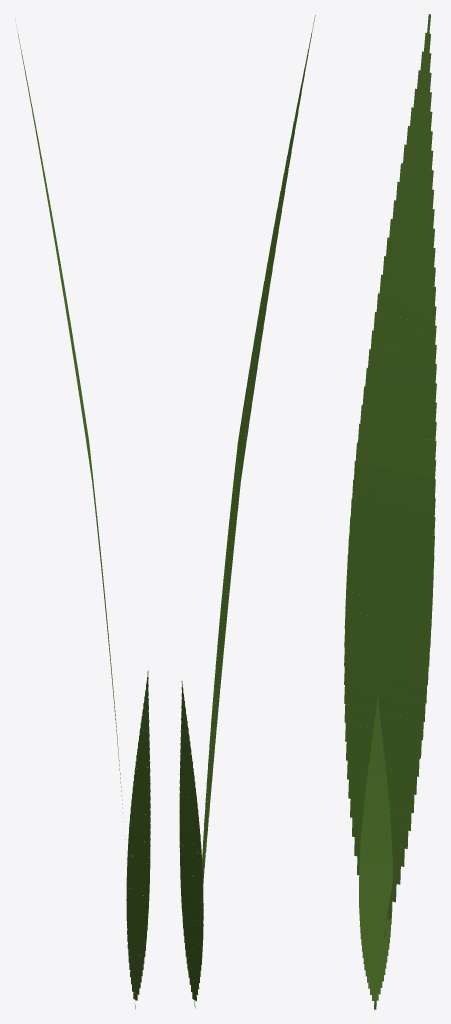
File: maize_005_day_030.dae
The picture shows the model from 3 angles, left to right: view 1: azimuth 30°, elevation 25°; view 2: azimuth 210°, elevation 25°; view 3: azimuth 270°, elevation 25°; orthographic projection. The views are drawn at different scales.
Visible parts, largest first — view 1: node; view 2: node; view 3: node.
Boxes of the visible parts, <box> form: node: <box>15,20,150,1008</box>; node: <box>179,15,315,1008</box>; node: <box>344,14,436,1009</box>.
Size of the model in its own units: 0.0191 by 0.1691 by 0.0149.
Materials: 1 (1 with a texture image).
